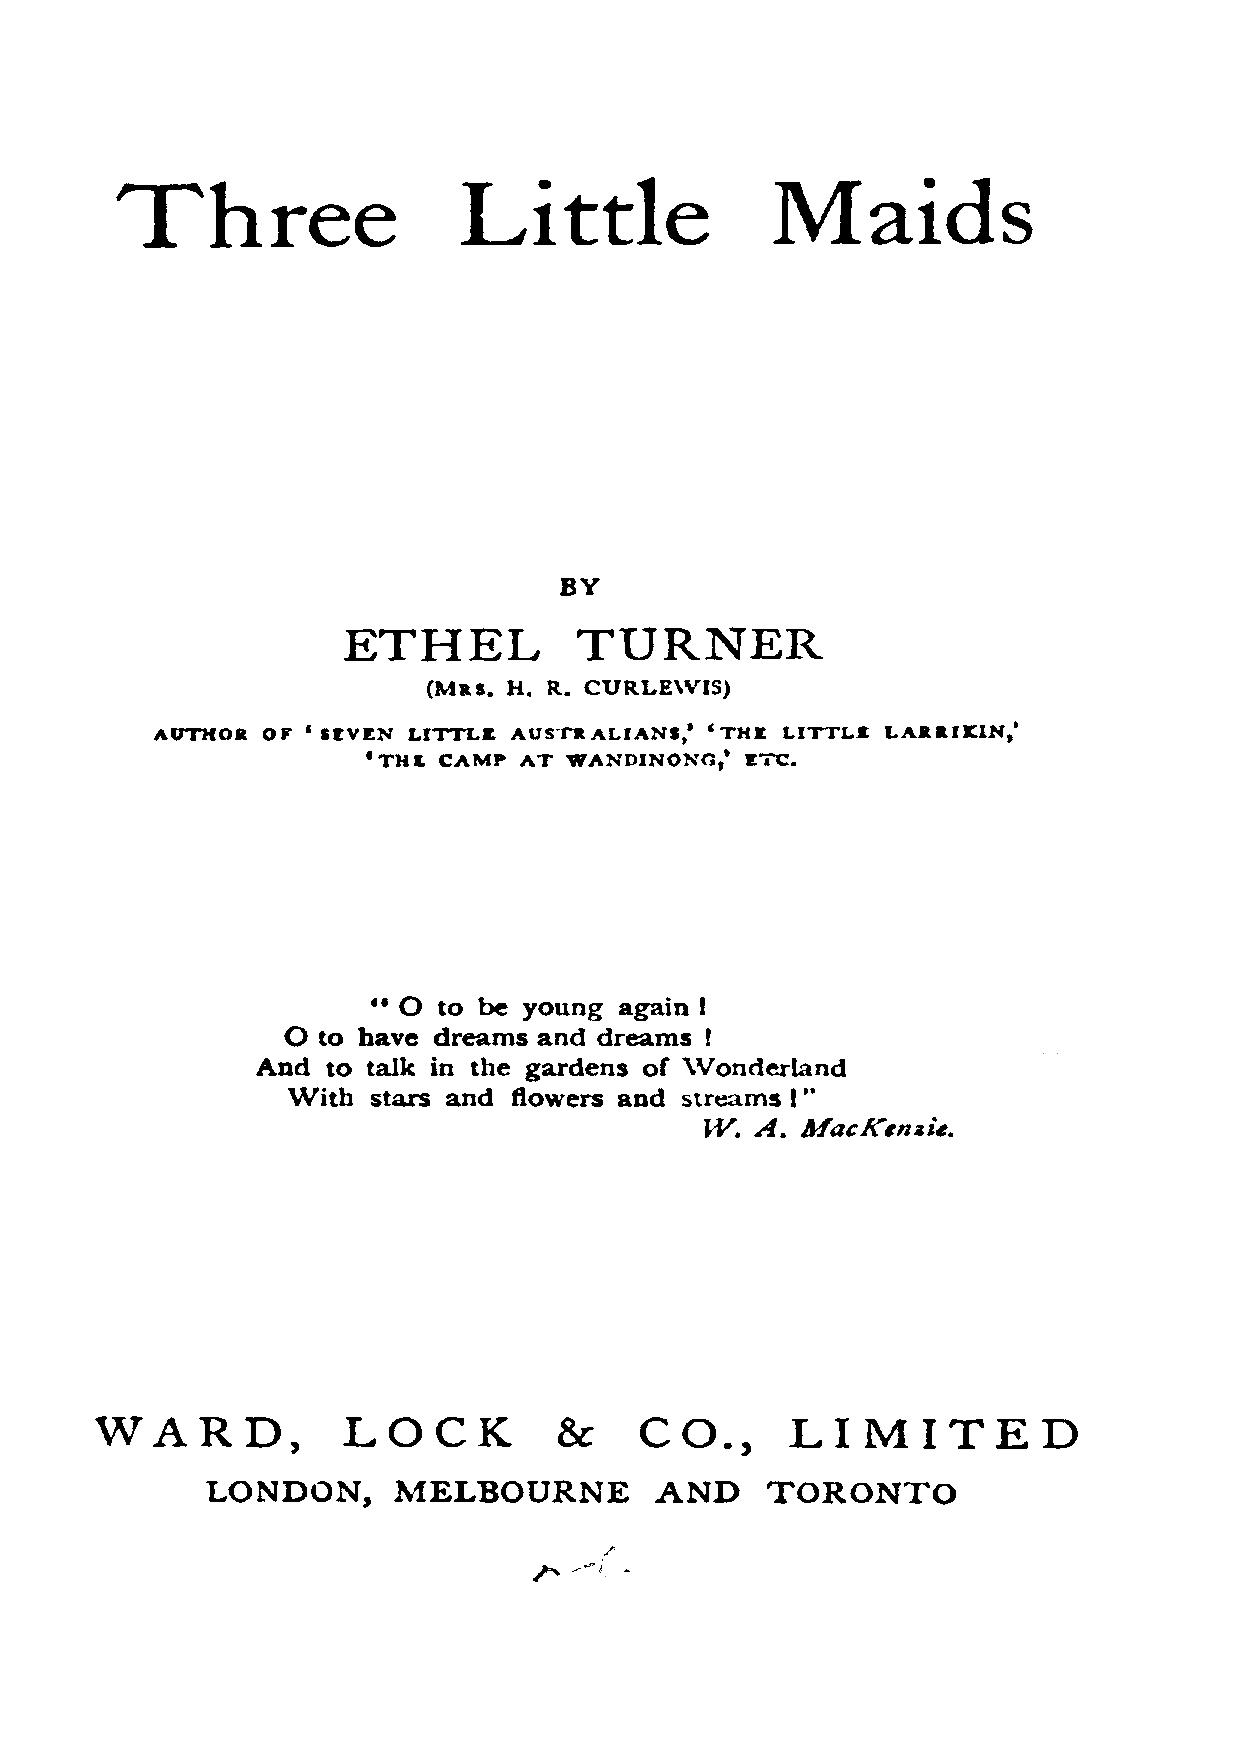author: (341, 574, 821, 663)
title: (110, 174, 1037, 248)
